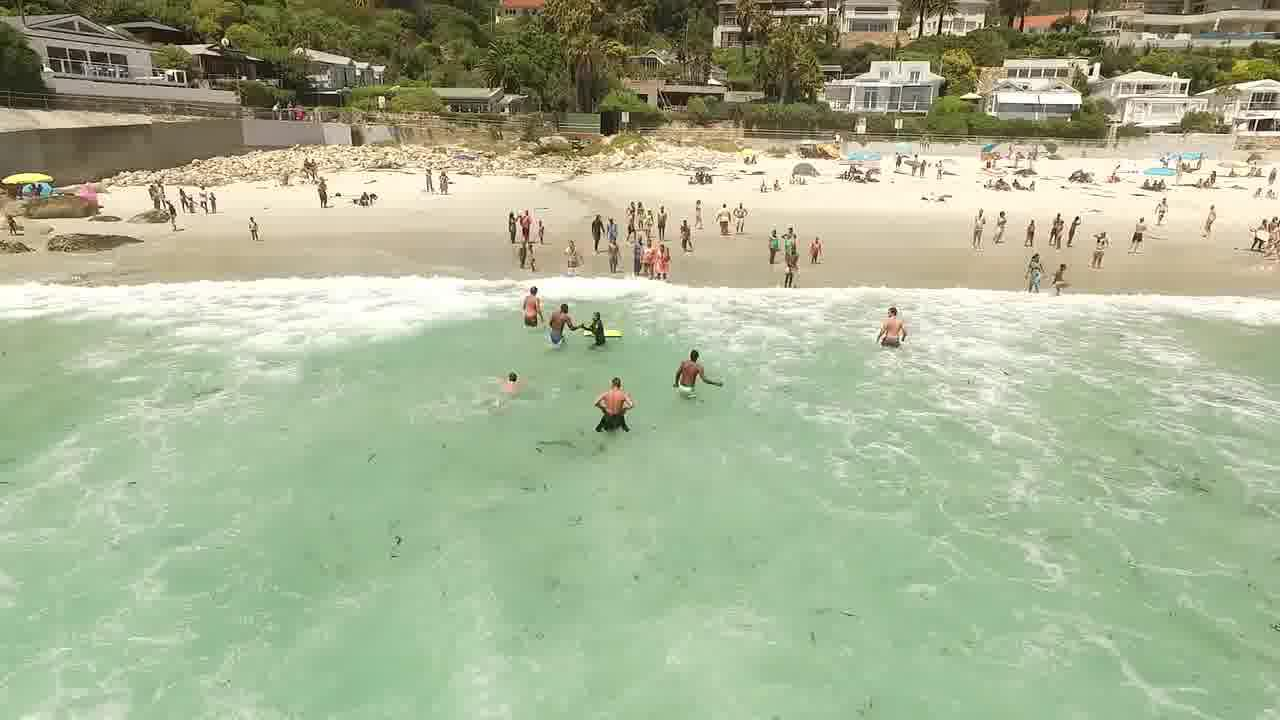swimmer: (594, 368, 633, 431), (875, 301, 918, 356), (673, 342, 718, 388), (514, 272, 540, 328), (490, 355, 527, 387), (586, 305, 612, 348), (554, 293, 573, 349)
